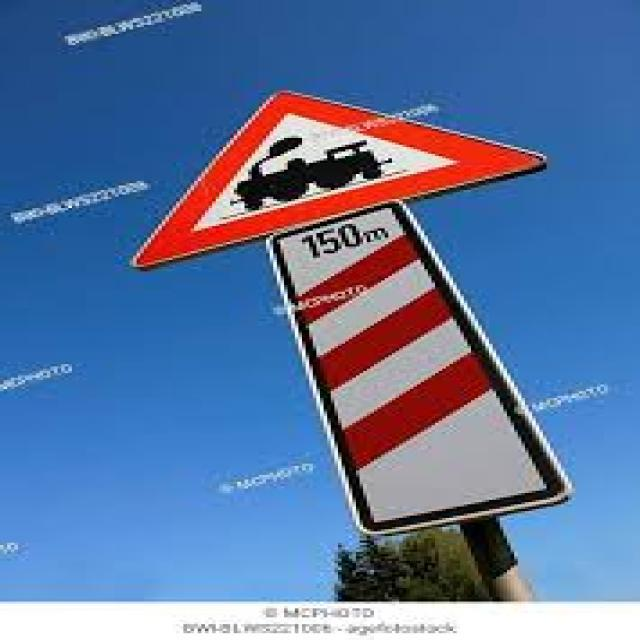unguarded level crossing: (124, 88, 567, 270)
